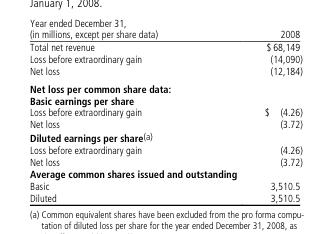table: (28, 29, 301, 203)
table column: (28, 29, 210, 203), (210, 29, 301, 203)
table column header: (28, 29, 301, 40)
table projected row header: (28, 79, 301, 94), (28, 130, 301, 144), (28, 94, 301, 106), (28, 168, 301, 180)
table row: (28, 64, 301, 79), (28, 79, 301, 94), (28, 130, 301, 144), (28, 40, 301, 52), (28, 52, 301, 64), (28, 94, 301, 106), (28, 106, 301, 118), (28, 118, 301, 130), (28, 144, 301, 156), (28, 156, 301, 168), (28, 168, 301, 180), (28, 180, 301, 192), (28, 29, 301, 40), (28, 192, 301, 203)
